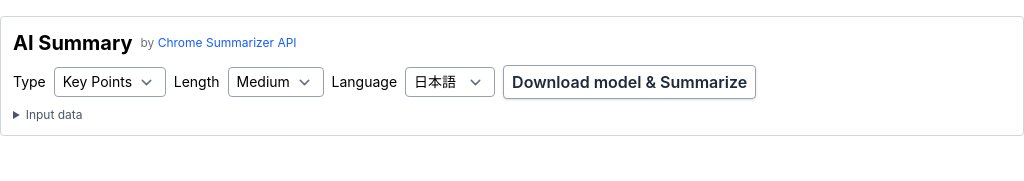
Test case: ActivitySummary › モデルのダウンロード進捗を表示する
Click the button "Download model & Summarize".
click(630, 82)  # box [503,65,756,99]
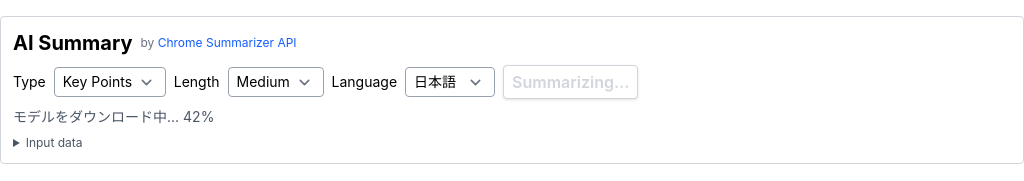
Now the text "モデルをダウンロード中... 42%" is shown, box [13,108,214,125]
